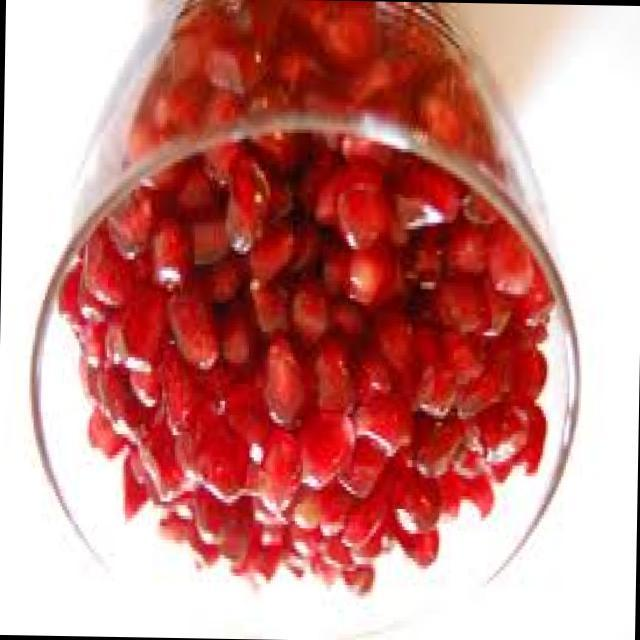Pomegranate: (48, 0, 564, 613)
